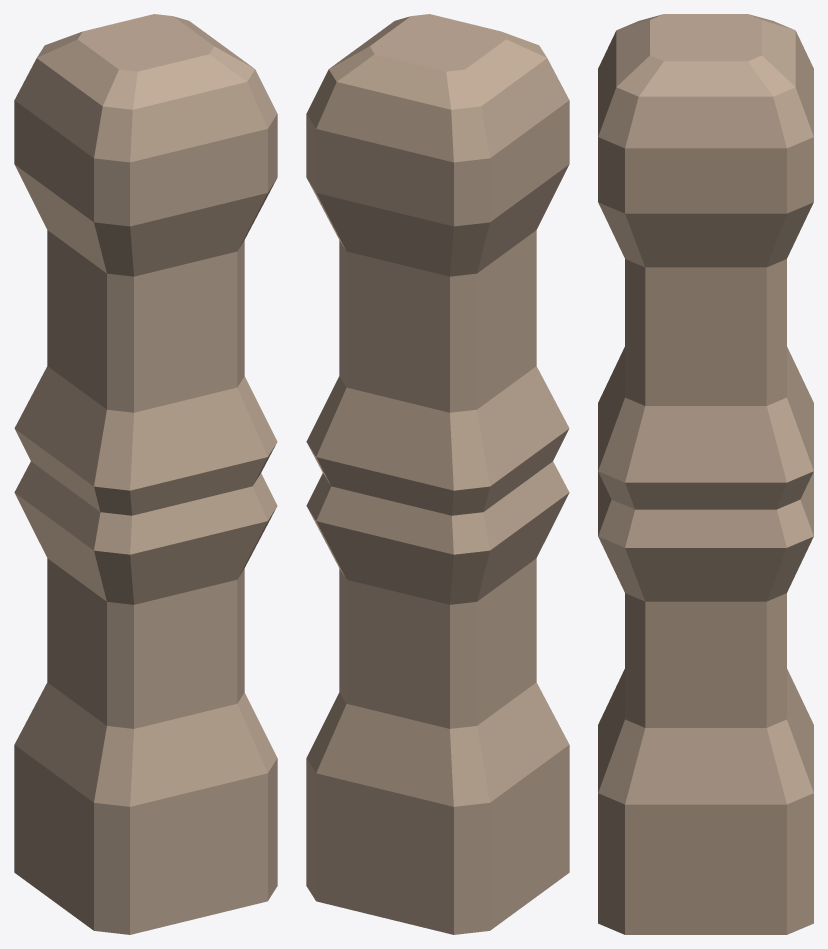
The model's file is Structure_Stairs_Railing_Post.glb.
3 views of the same model, side by side, from view 1: azimuth 30°, elevation 25°; view 2: azimuth 150°, elevation 25°; view 3: azimuth 270°, elevation 25° (orthographic).
Parts seen in each view (by area): view 1: Structure_Stairs_Railing_Post; view 2: Structure_Stairs_Railing_Post; view 3: Structure_Stairs_Railing_Post.
Boxes of the visible parts, x1,y1,x2,y2 form: Structure_Stairs_Railing_Post: (14,14,277,934); Structure_Stairs_Railing_Post: (306,14,569,934); Structure_Stairs_Railing_Post: (598,14,813,934).
Size of the model in its own units: 0.15 by 0.6531 by 0.15.
